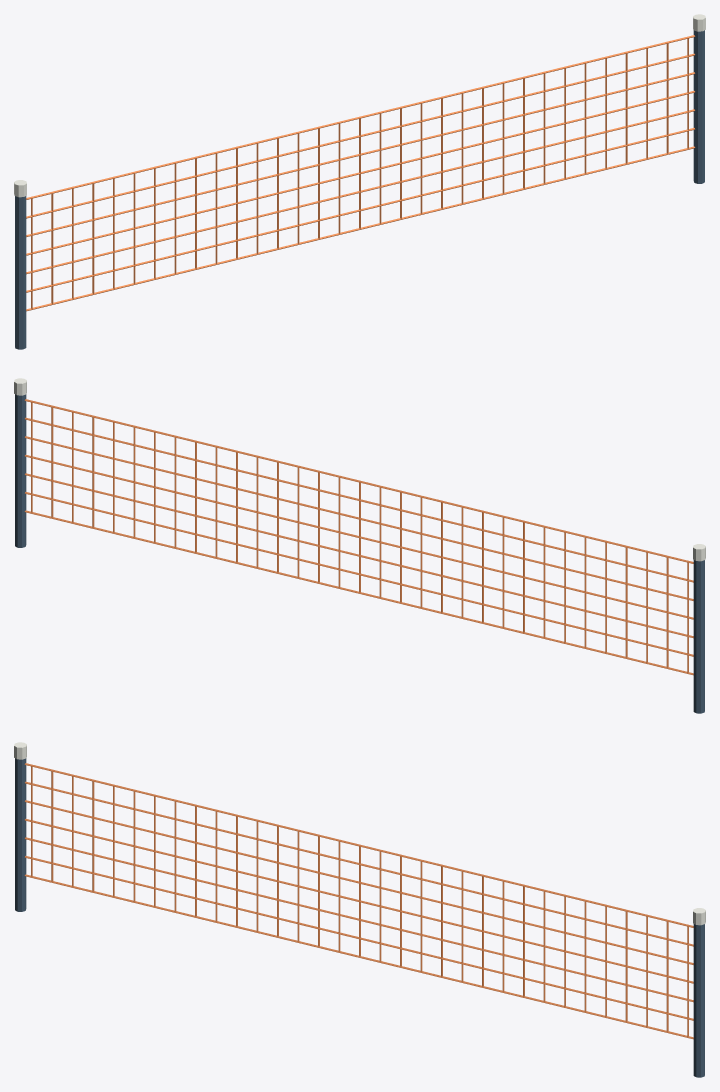
File: safety-fence-sunset.glb
3 views of the same model, one above another, from view 1: azimuth 30°, elevation 25°; view 2: azimuth 150°, elevation 25°; view 3: azimuth 330°, elevation 25° (orthographic).
Visible parts, largest first — view 1: safety-fence-sunset; view 2: safety-fence-sunset; view 3: safety-fence-sunset.
Boxes of the visible parts, <box> form: safety-fence-sunset: <box>14,14,705,349</box>; safety-fence-sunset: <box>14,378,705,713</box>; safety-fence-sunset: <box>14,742,705,1077</box>.
Bounding box in the file's own units: 6.1 × 1.39 × 0.104.
